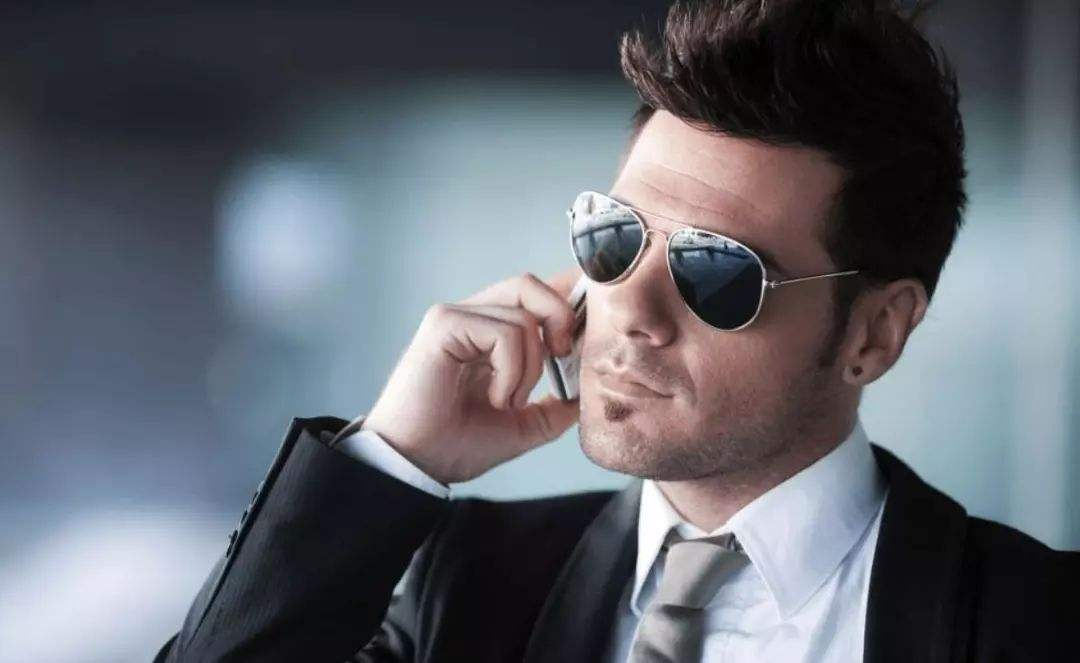calling: (368, 254, 597, 485)
